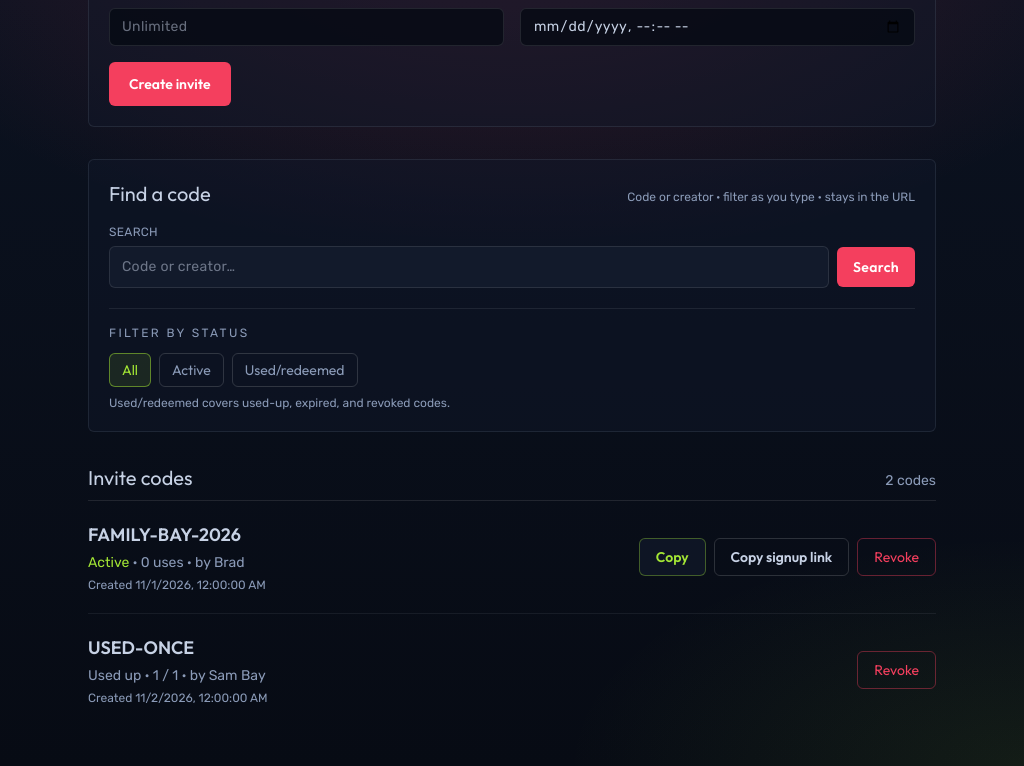
Test: AdminInvitesPage › copies a signup link with the invite code and toasts success
(page scrolled)
Check: the text "FAMILY-BAY-2026" is shown, box [88,520,266,548]
Step 1. Click the button with aria-label "Copy signup link for FAMILY-BAY-2026" → (781, 556), box [714,538,849,576]
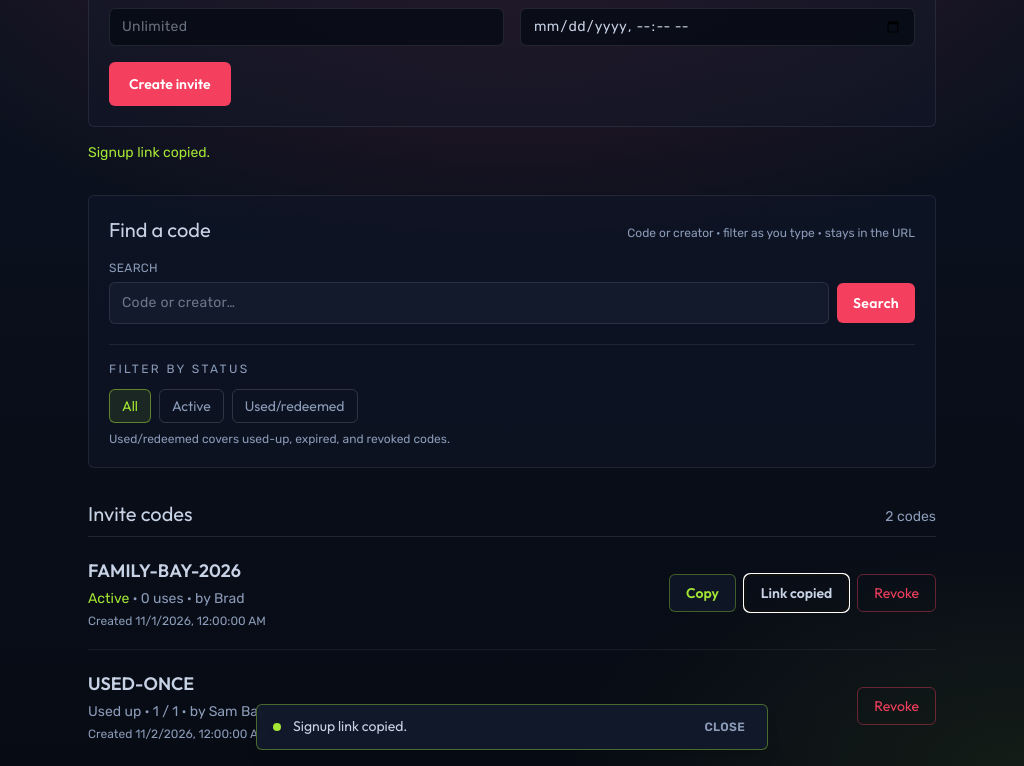
Check: the button with aria-label "Copy invite code FAMILY-BAY-2026" reads "Copy", box [669,574,736,612]
Check: the message shows "Signup link copied", box [293,717,407,735]
Check: the button with aria-label "Copy signup link for FAMILY-BAY-2026" reads "Link copied", box [744,574,849,612]
